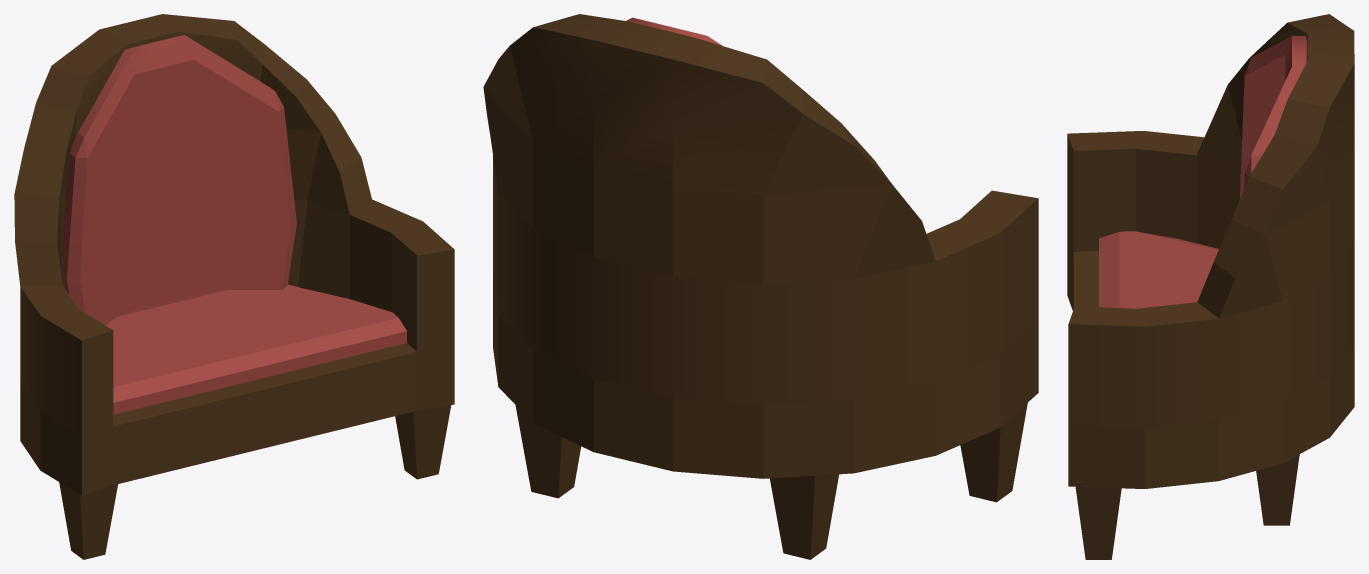
File: geo_ArmChairwithoutPillows_01.fbx
3 views of the same model, side by side, from view 1: azimuth 30°, elevation 25°; view 2: azimuth 150°, elevation 25°; view 3: azimuth 270°, elevation 25° (orthographic). The views are drawn at different scales.
Visible parts, largest first — view 1: pCylinder1, geo_diningChairPillow_02, geo_diningChairPillow_01, pCube11, pCube13; view 2: pCylinder1, pCube12, pCube11, pCube10; view 3: pCylinder1, geo_diningChairPillow_01, geo_diningChairPillow_02, pCube13, pCube10.
Boxes of the visible parts, left/top/right/bottom form: pCylinder1: left=14, top=14, right=454, bottom=495; geo_diningChairPillow_02: left=62, top=35, right=296, bottom=325; geo_diningChairPillow_01: left=106, top=284, right=406, bottom=414; pCube11: left=59, top=482, right=117, bottom=559; pCube13: left=395, top=405, right=451, bottom=479; pCylinder1: left=483, top=14, right=1038, bottom=478; pCube12: left=769, top=474, right=838, bottom=559; pCube11: left=960, top=403, right=1027, bottom=502; pCube10: left=515, top=405, right=581, bottom=498; pCylinder1: left=1067, top=14, right=1354, bottom=488; geo_diningChairPillow_01: left=1099, top=231, right=1218, bottom=308; geo_diningChairPillow_02: left=1240, top=36, right=1307, bottom=198; pCube13: left=1075, top=482, right=1121, bottom=559; pCube10: left=1256, top=454, right=1299, bottom=525.
Size of the model in its own units: 74.04 by 74.23 by 45.86.
